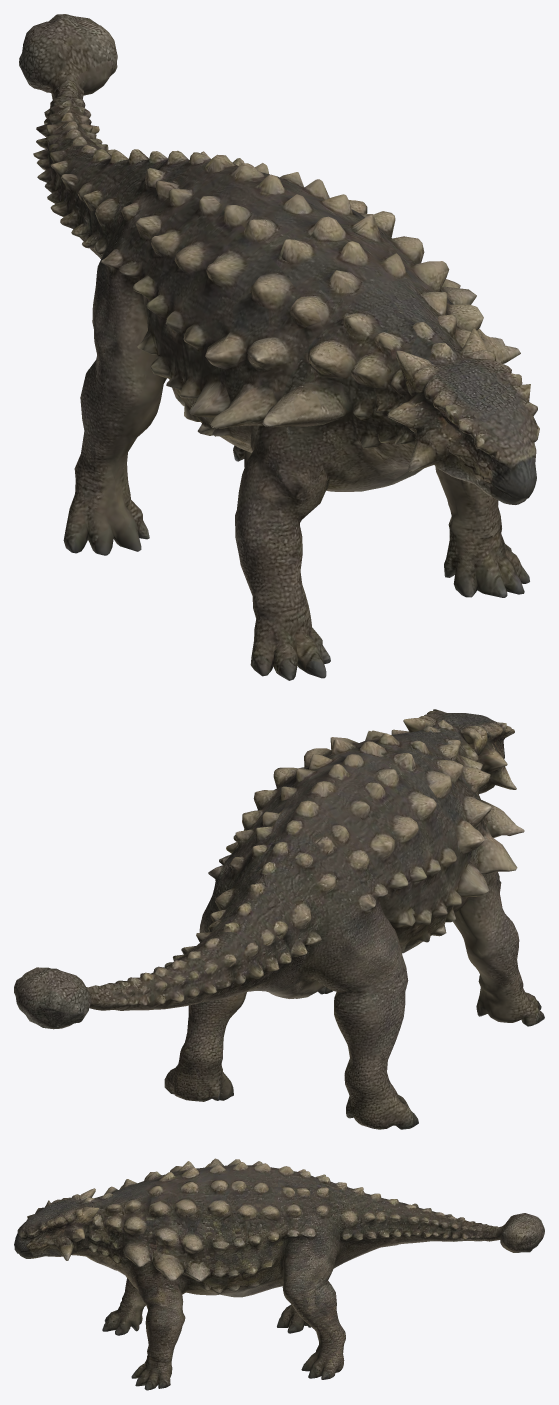
The model's file is ankylosaurus.glb.
The picture shows the model from 3 angles, top to bottom: view 1: azimuth 30°, elevation 25°; view 2: azimuth 150°, elevation 25°; view 3: azimuth 270°, elevation 25°; orthographic projection. The views are drawn at different scales.
Parts seen in each view (by area): view 1: dino; view 2: dino; view 3: dino.
Part boxes in pixels (<box>): dino: <box>19,14,539,680</box>; dino: <box>14,709,544,1129</box>; dino: <box>14,1158,544,1390</box>.
Size of the model in its own units: 2.42 by 2.77 by 7.
Materials: 1 (1 with a texture image).
